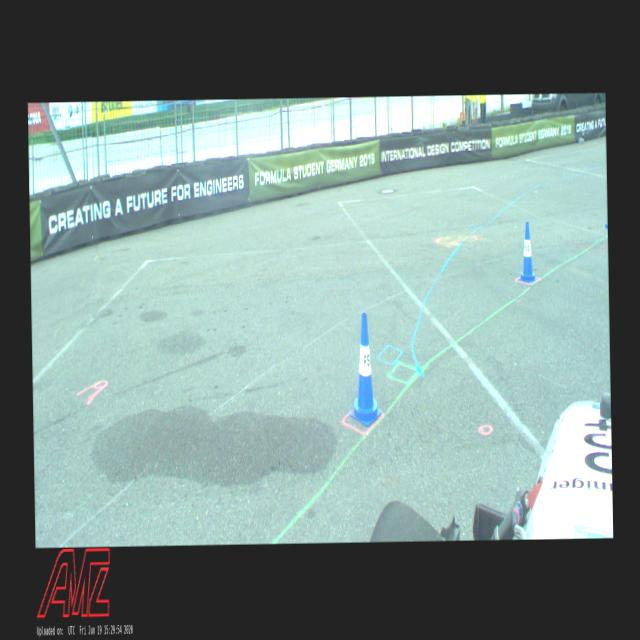blue_cone: (348, 311, 382, 426), (516, 222, 537, 282)
